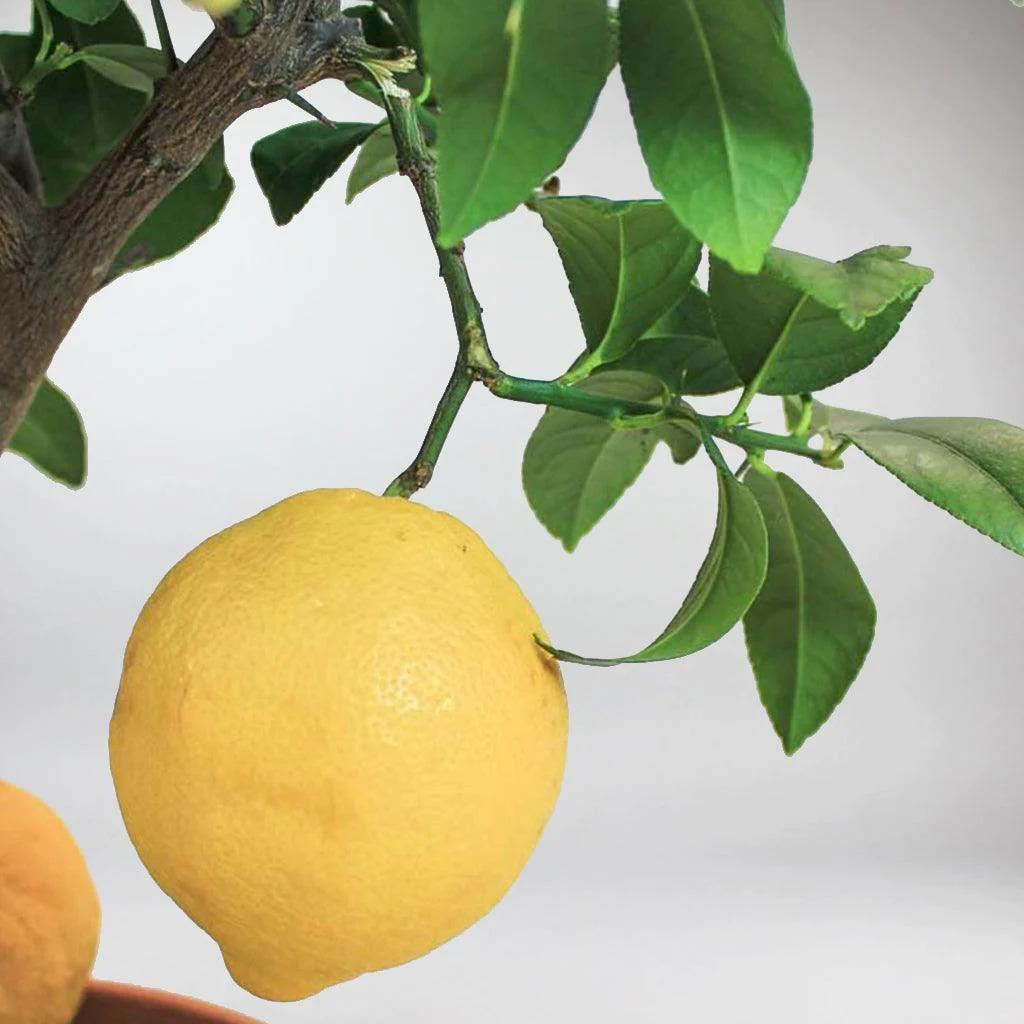Healthy Citrus: (615, 0, 821, 274), (413, 1, 616, 260), (728, 462, 888, 755), (715, 236, 917, 396), (840, 404, 1024, 552), (550, 190, 693, 368)
